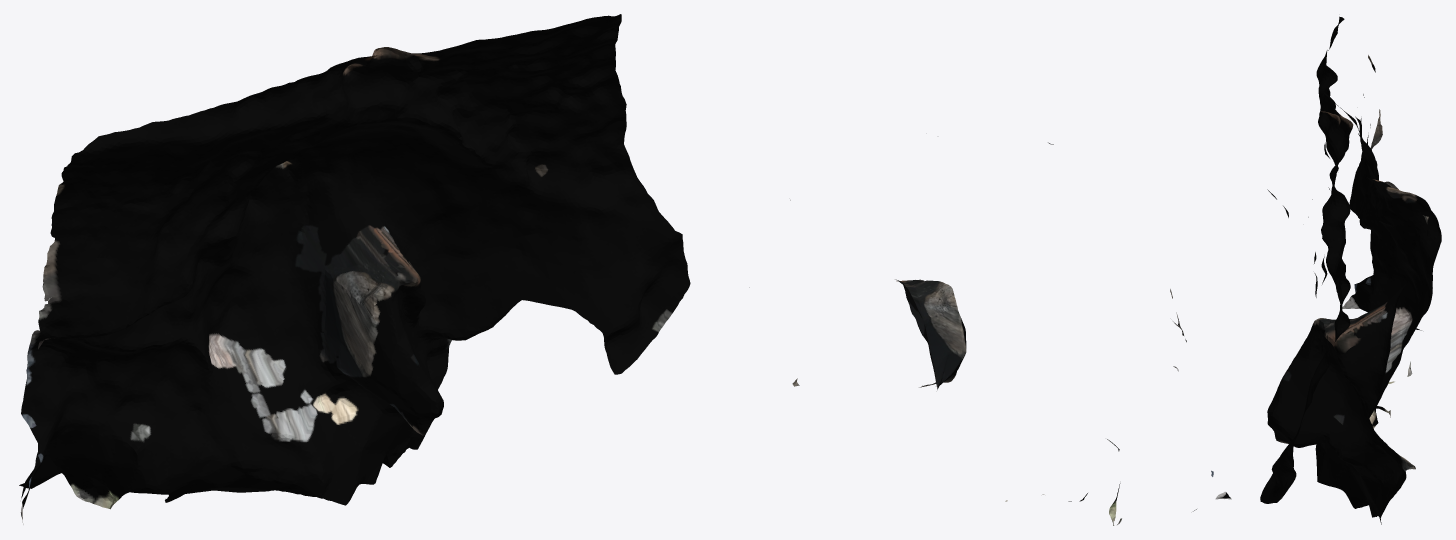
3 views of the same model, side by side, from view 1: azimuth 30°, elevation 25°; view 2: azimuth 150°, elevation 25°; view 3: azimuth 270°, elevation 25° (orthographic). The views are drawn at different scales.
Parts seen in each view (by area): view 1: TexturedMesh; view 2: TexturedMesh; view 3: TexturedMesh.
Boxes of the visible parts, <box> form: TexturedMesh: <box>19,14,690,524</box>; TexturedMesh: <box>749,142,1231,525</box>; TexturedMesh: <box>1260,16,1441,524</box>.
Bounding box in the file's own units: 1.7 × 1.18 × 0.4798.
Materials: 1 (1 with a texture image).
